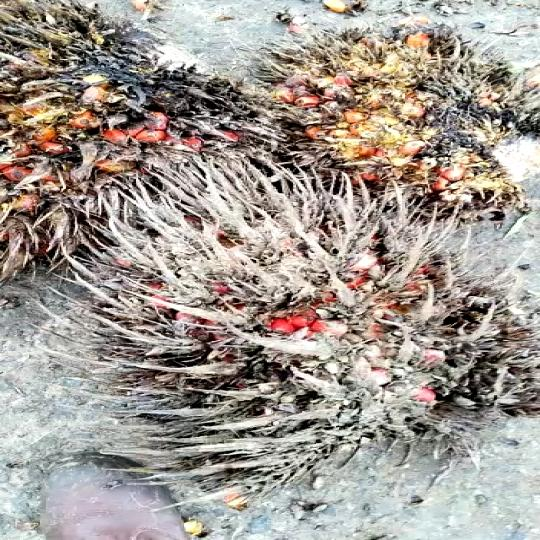terlalu masak: (92, 184, 536, 479), (262, 35, 540, 203)
